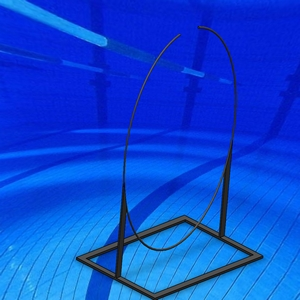circle: (75, 24, 265, 300)
